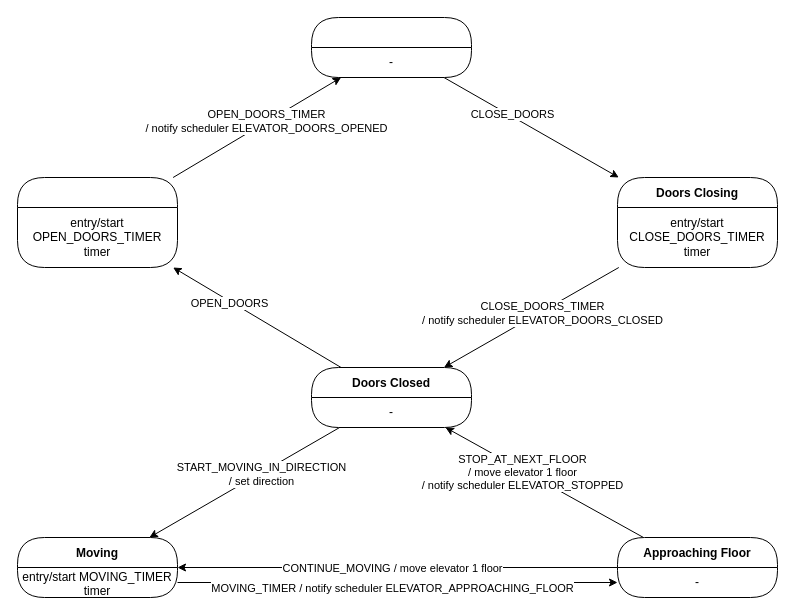
This 795x615 diagram has some shape labels left out. The box of each missing label's shape, as (x1, y1, x2, y2) in pixels:
Doors Open: (310, 16, 472, 78)
Doors Opening: (16, 176, 178, 268)
